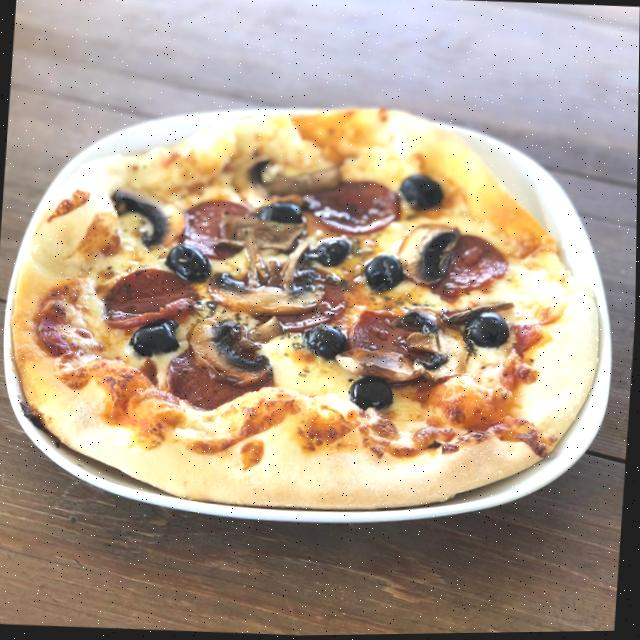black_olives: (399, 172, 447, 215), (166, 242, 213, 285), (133, 316, 179, 356), (366, 254, 409, 294), (352, 375, 397, 412), (306, 325, 349, 362), (469, 314, 511, 351), (261, 199, 305, 227), (317, 237, 352, 268)
mushrooms: (205, 267, 330, 322), (186, 313, 277, 388), (401, 308, 472, 386), (109, 190, 189, 253), (246, 158, 345, 202), (218, 213, 307, 257), (396, 225, 459, 287), (338, 345, 417, 384)
pepperoni: (163, 343, 274, 415), (103, 268, 204, 331), (309, 181, 401, 236), (282, 269, 350, 337), (433, 234, 512, 291), (186, 196, 248, 260), (348, 309, 405, 359)
pizza: (2, 89, 614, 528)
